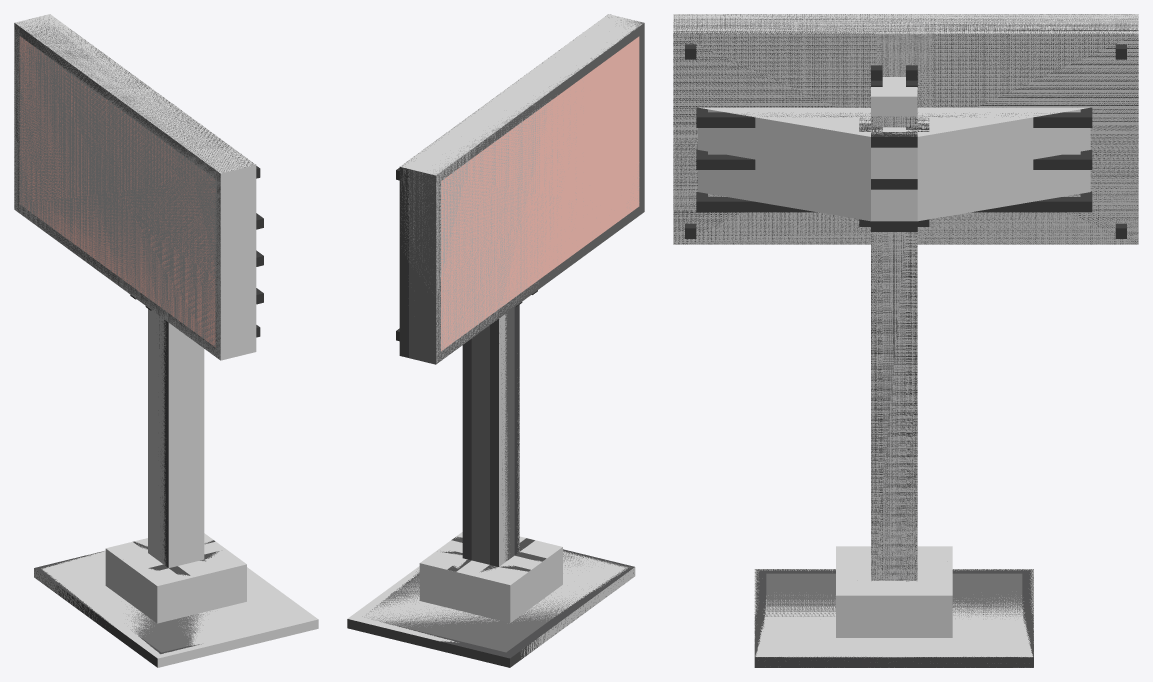
The model's file is Banner04_B1_1_01.FBX.
3 renders of one model, left to right at view 1: azimuth 30°, elevation 25°; view 2: azimuth 150°, elevation 25°; view 3: azimuth 270°, elevation 25°, orthographic. The views are drawn at different scales.
Visible parts, largest first — view 1: Banner04_B1_Damage_1_01, Banner04_B1_Live_1_01; view 2: Banner04_B1_Live_1_01, Banner04_B1_Damage_1_01; view 3: Banner04_B1_Damage_1_01, Banner04_B1_Live_1_01.
Boxes of the visible parts, x1,y1,x2,y2 form: Banner04_B1_Damage_1_01: (14, 14, 318, 667); Banner04_B1_Live_1_01: (14, 17, 263, 667); Banner04_B1_Live_1_01: (347, 14, 644, 667); Banner04_B1_Damage_1_01: (347, 14, 641, 658); Banner04_B1_Damage_1_01: (673, 14, 1138, 667); Banner04_B1_Live_1_01: (673, 14, 1138, 667).
Bounding box in the file's own units: 1.37 × 4.19 × 3.05.
